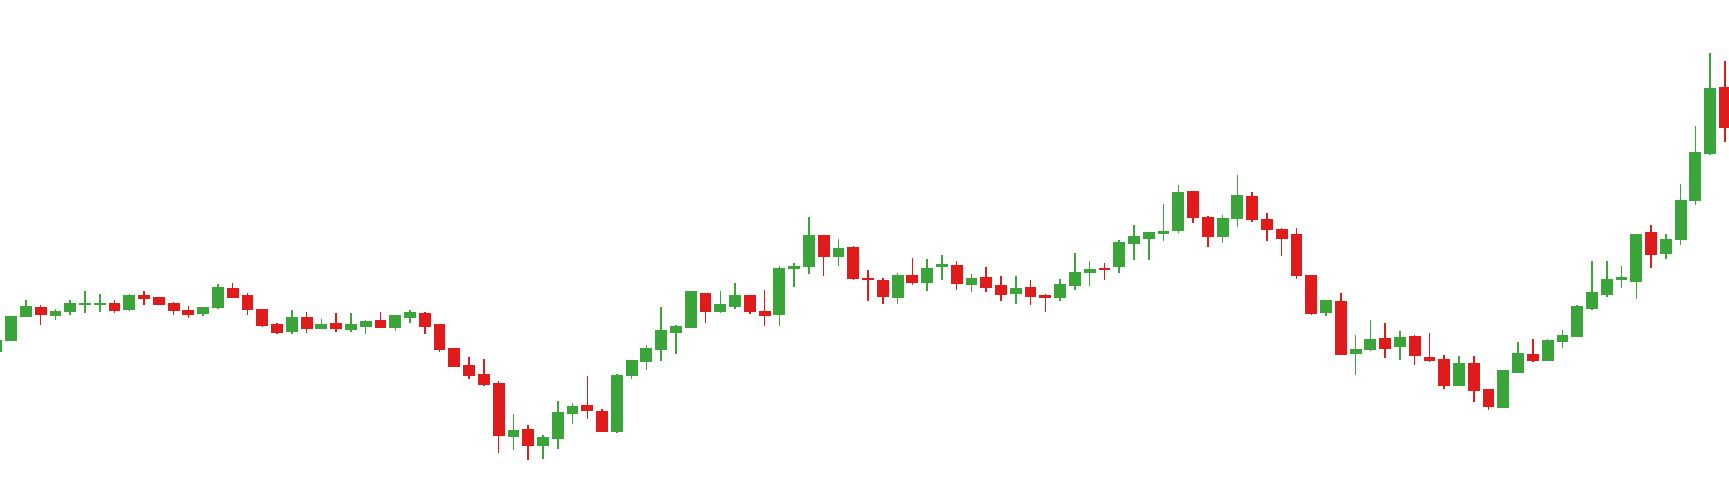sell: (1170, 175, 1258, 235)
